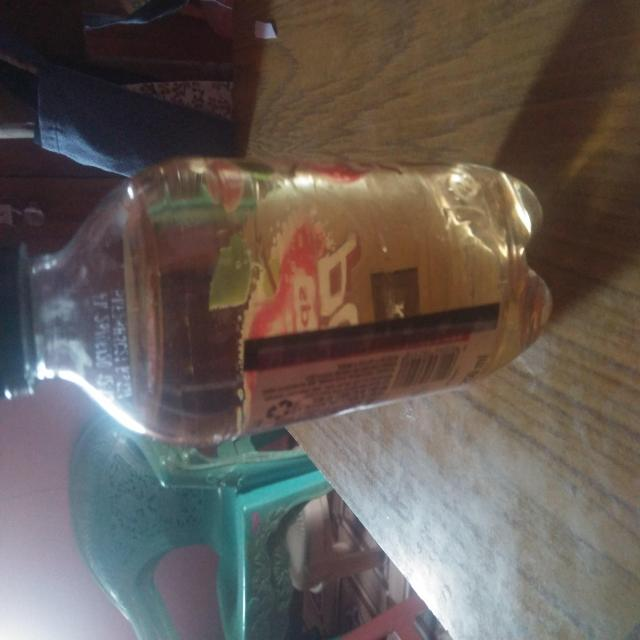bottle: (0, 152, 556, 456)
